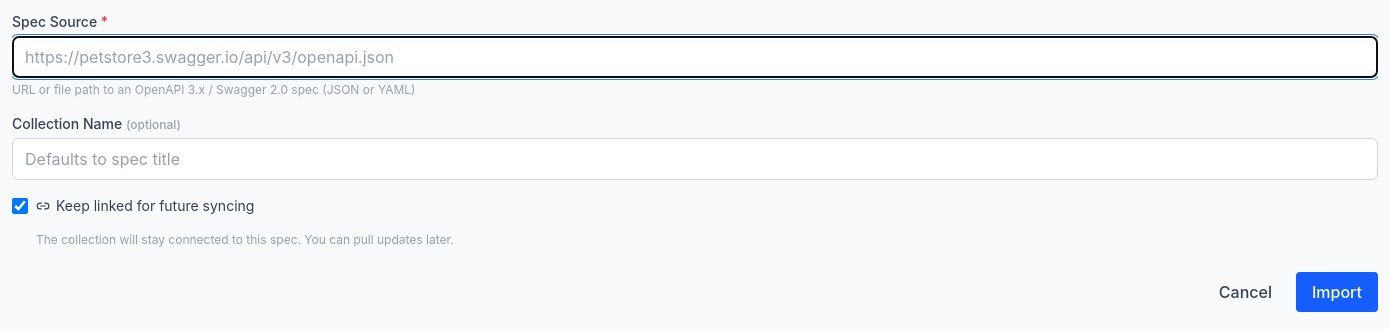
ImportOpenApiForm › hides sync description when linked is unchecked
The width and height of the screenshot is (1390, 329).
Click the checkbox.
click(20, 206)  # box [12, 198, 28, 214]
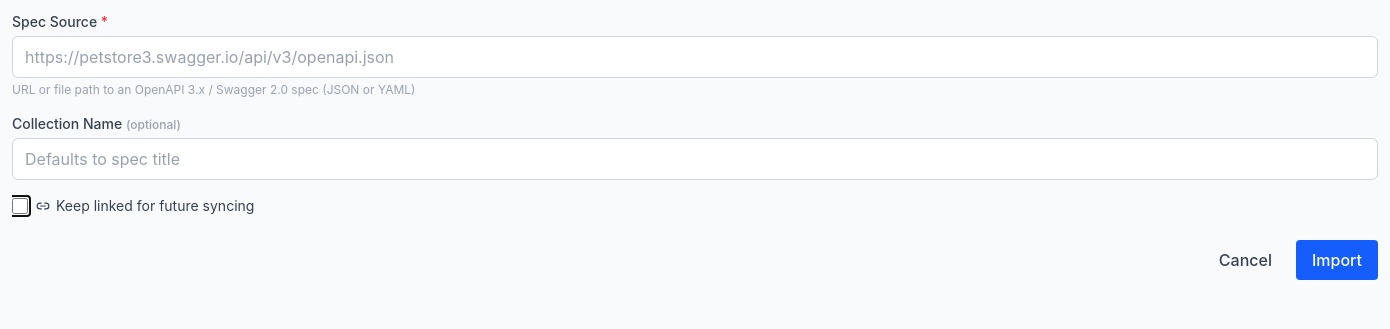
Now the text "will stay connected to this spec" is gone
